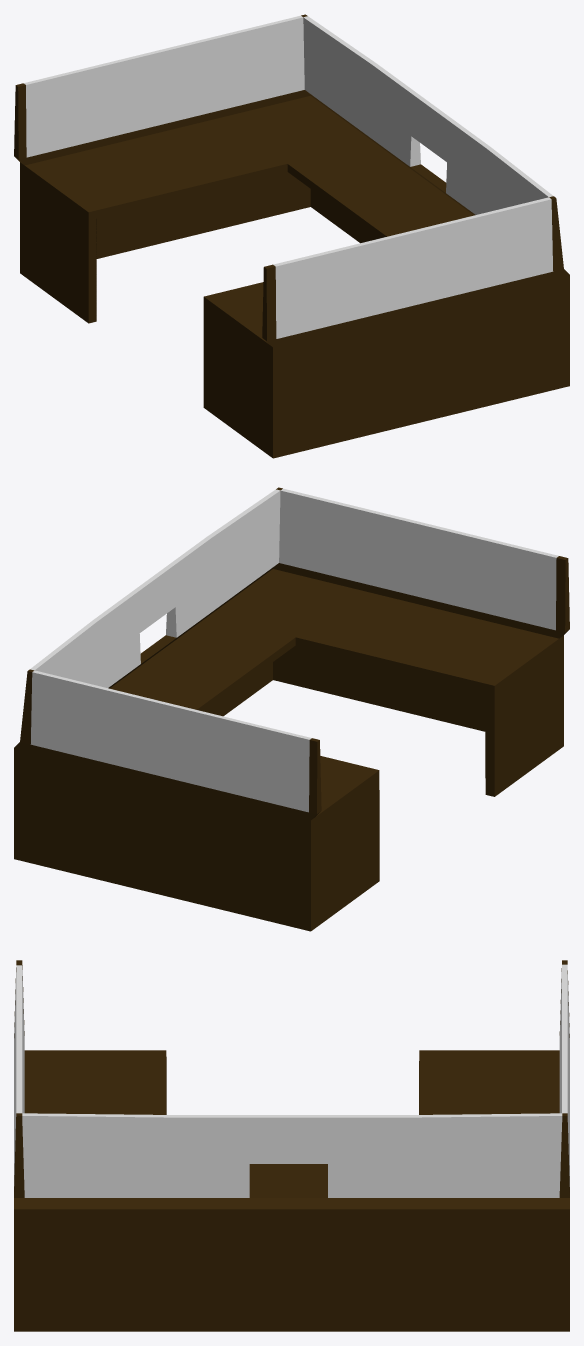
File: infoDesk.fbx
The picture shows the model from 3 angles, top to bottom: view 1: azimuth 30°, elevation 25°; view 2: azimuth 150°, elevation 25°; view 3: azimuth 270°, elevation 25°; orthographic projection. The views are drawn at different scales.
Parts seen in each view (by area): view 1: Cube; view 2: Cube; view 3: Cube.
Boxes of the visible parts, bbox=[...] form: Cube: bbox=[14, 14, 569, 458]; Cube: bbox=[14, 487, 569, 931]; Cube: bbox=[14, 960, 569, 1331].
Bounding box in the file's own units: 1397 × 839 × 2022.
